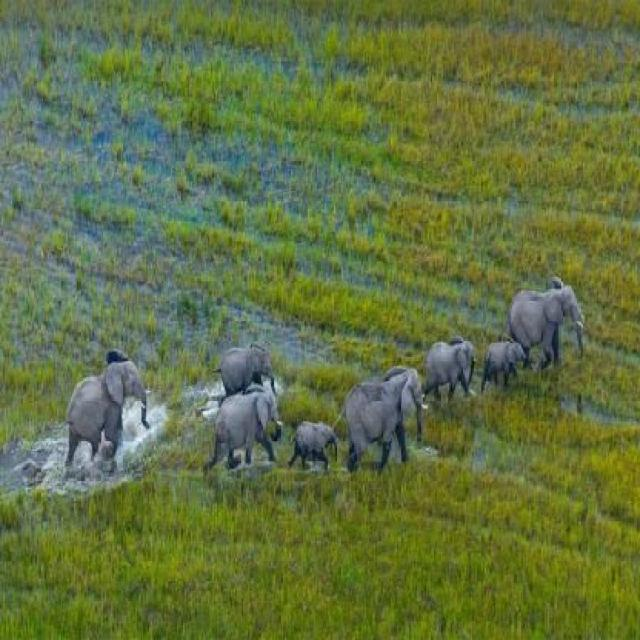elephant: (60, 335, 154, 468), (502, 269, 600, 374), (340, 356, 431, 469), (208, 392, 280, 478), (210, 329, 288, 393), (293, 402, 339, 480), (426, 330, 479, 392), (481, 343, 528, 394)
